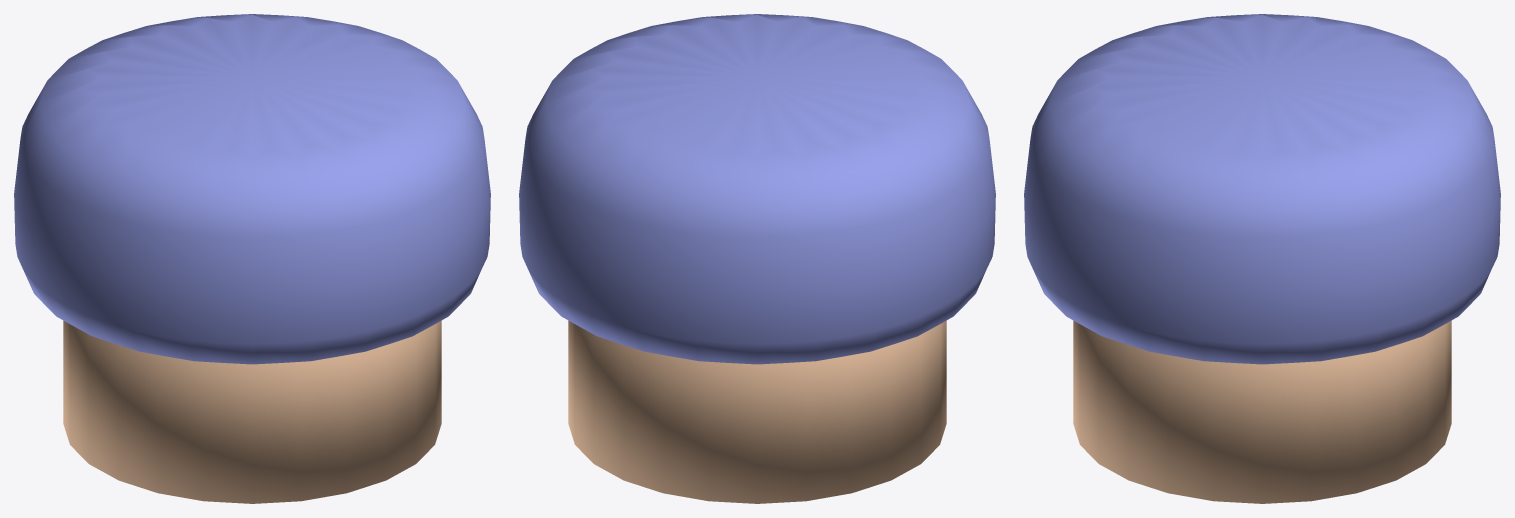
File: chair03.fbx
The picture shows the model from 3 angles, left to right: view 1: azimuth 30°, elevation 25°; view 2: azimuth 150°, elevation 25°; view 3: azimuth 270°, elevation 25°; orthographic projection.
Parts seen in each view (by area): view 1: Circle, Circle.001; view 2: Circle, Circle.001; view 3: Circle, Circle.001.
Boxes of the visible parts, box(x1,y1,x2,y2) form: Circle: box(14, 14, 490, 364); Circle.001: box(63, 320, 441, 503); Circle: box(519, 14, 995, 364); Circle.001: box(568, 320, 946, 503); Circle: box(1024, 14, 1500, 364); Circle.001: box(1073, 320, 1451, 503).
Size of the model in its own units: 134 by 107 by 134.
